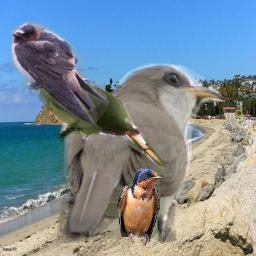Cuckoo: (57, 63, 222, 244), (27, 61, 167, 168)
Swallow: (9, 21, 110, 127), (117, 168, 163, 247)
